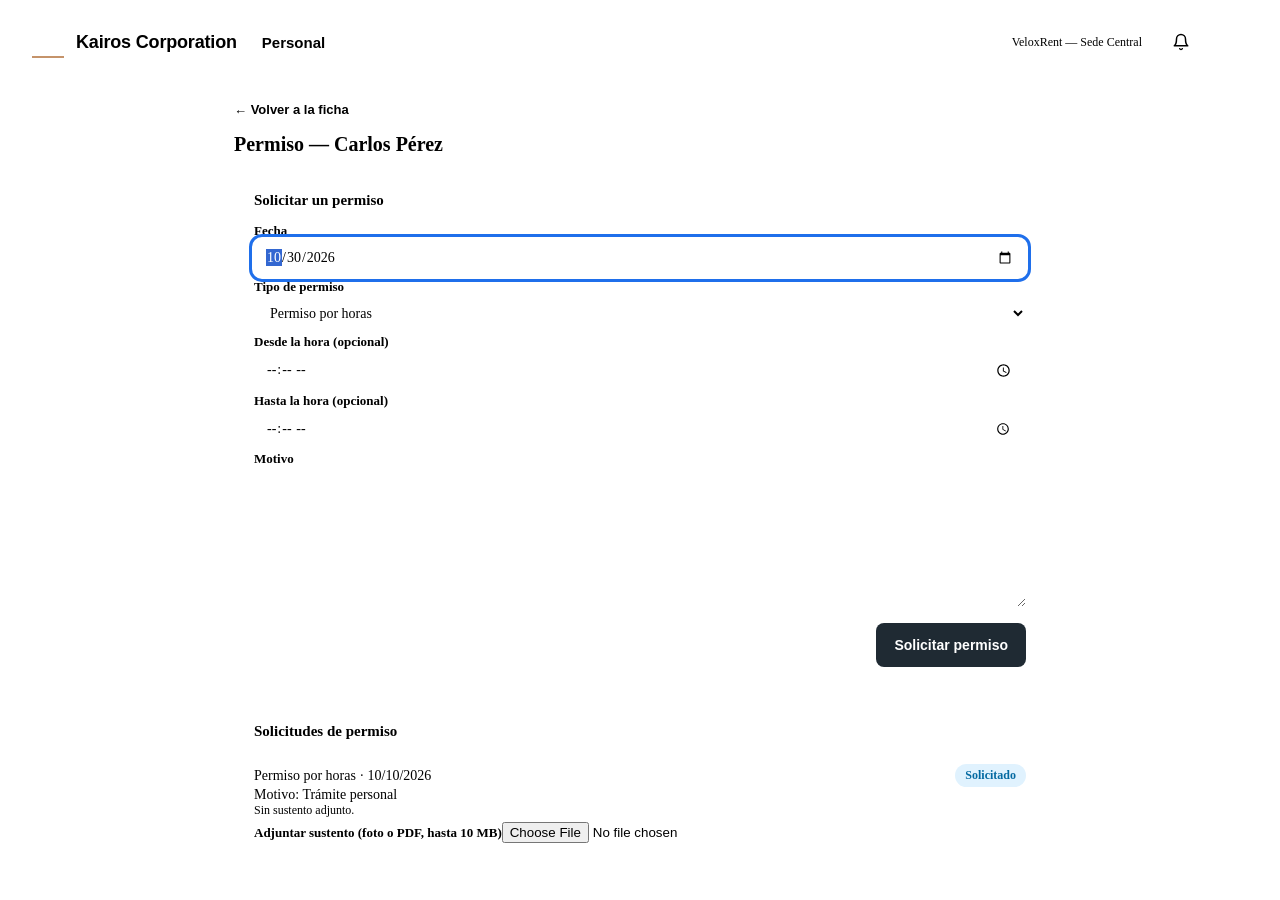
it: LeavesScreen (ADP-04) › el foco inicial esta en la fecha y la solicitud exige motivo
The width and height of the screenshot is (1280, 900).
Click the button "Solicitar permiso": click(951, 645) [876,623,1026,667]
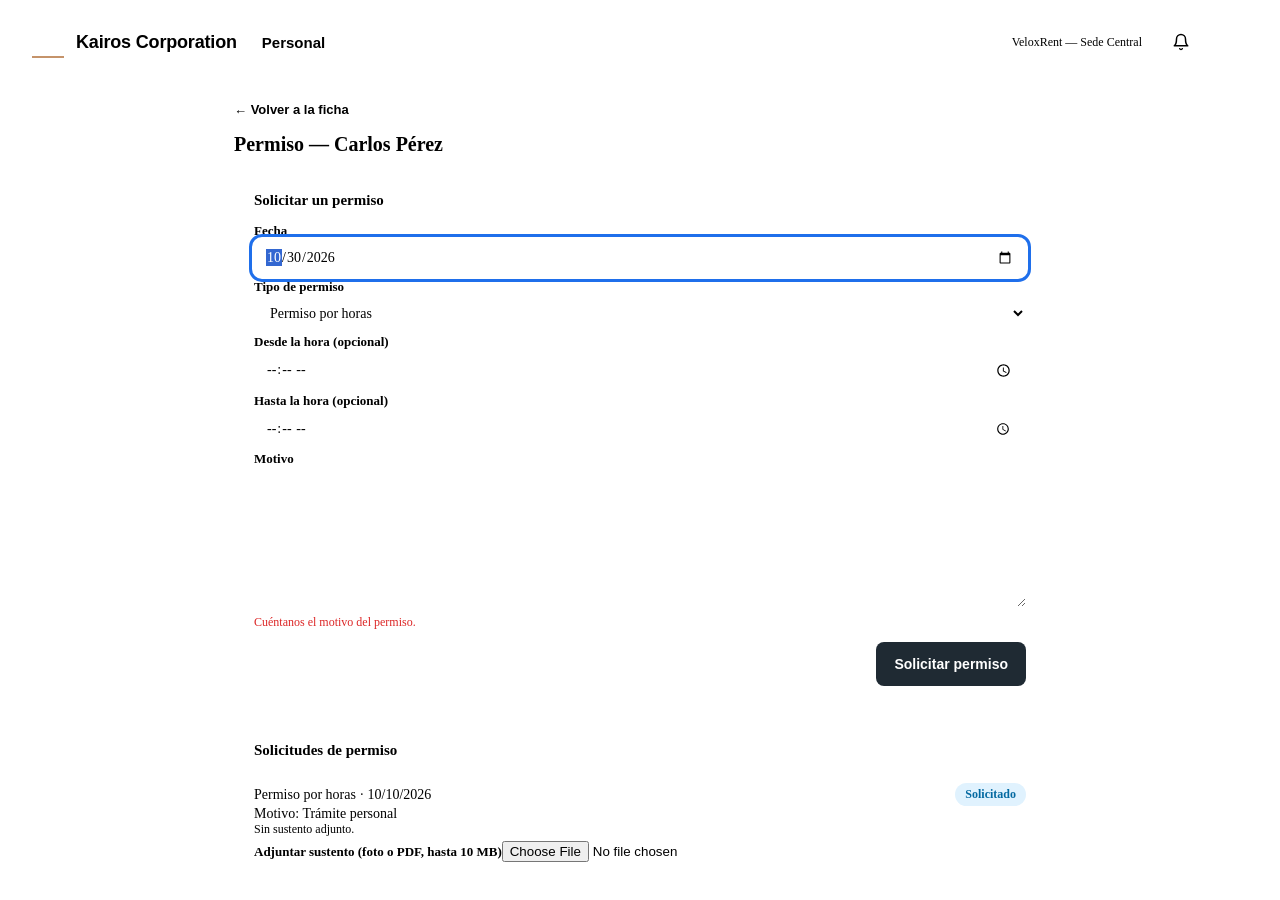
Result: the text "Cuéntanos el motivo del permiso." is shown at [254,615,416,629]
